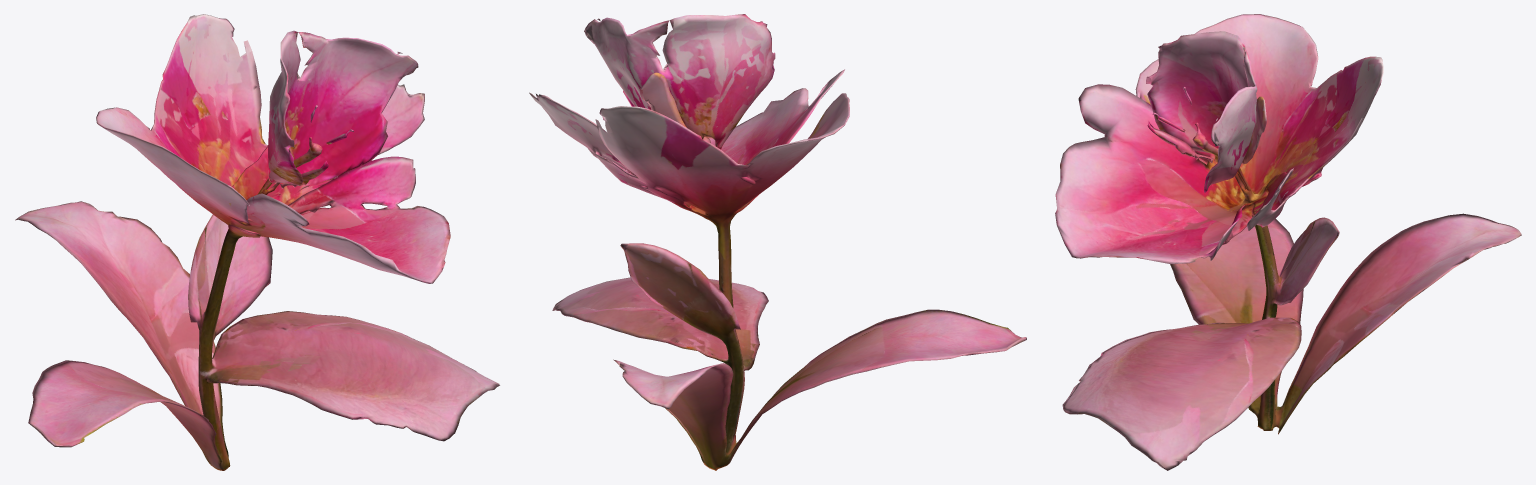
Rendered from flower_with_pink_peta_0323100330_texture.glb.
3 views of the same model, side by side, from view 1: azimuth 30°, elevation 25°; view 2: azimuth 150°, elevation 25°; view 3: azimuth 270°, elevation 25° (orthographic). The views are drawn at different scales.
Size of the model in its own units: 1.97 by 1.76 by 1.78.
1 material, 1 textured.
